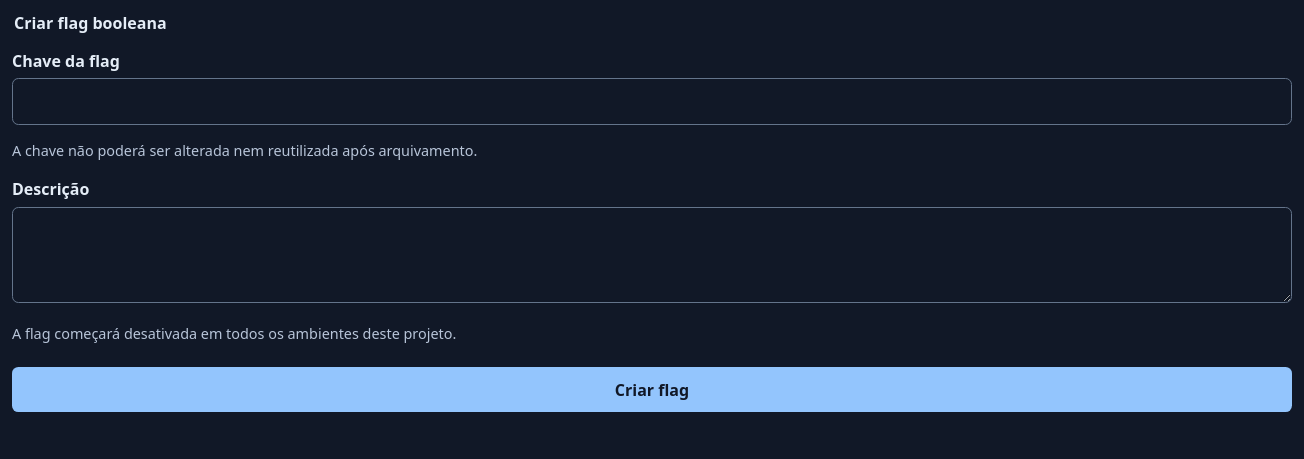
Test: valida chave antes de criar e informa o estado inicial desativado
Later steps or results of the test are not shown.
Type "Invalid Key" into the field labelled "Chave da flag" at (652, 102), box top-left (12, 78), bottom-right (1292, 125)
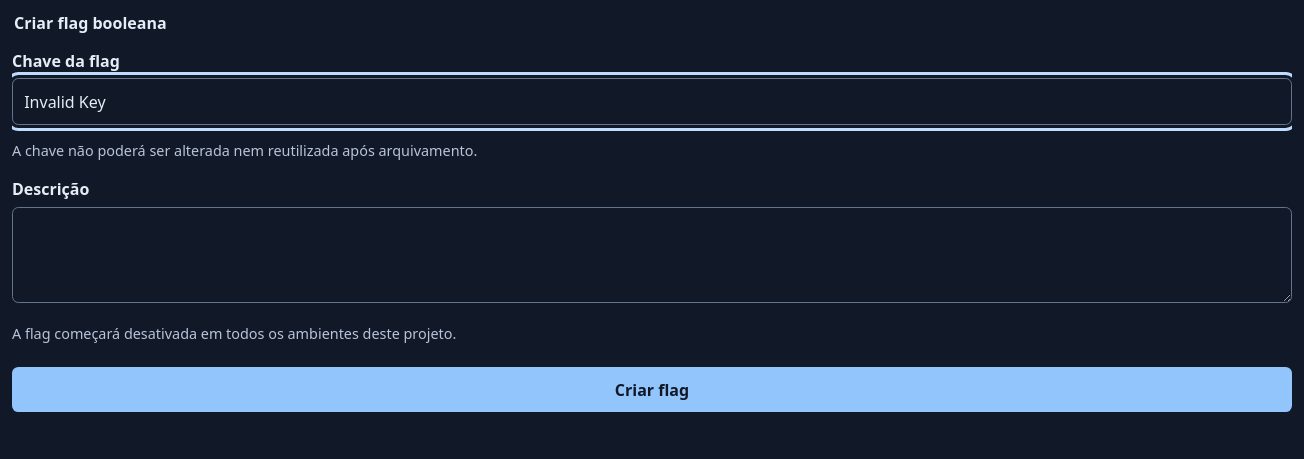
Click the button "Criar flag" at (652, 390), box top-left (12, 367), bottom-right (1292, 412)
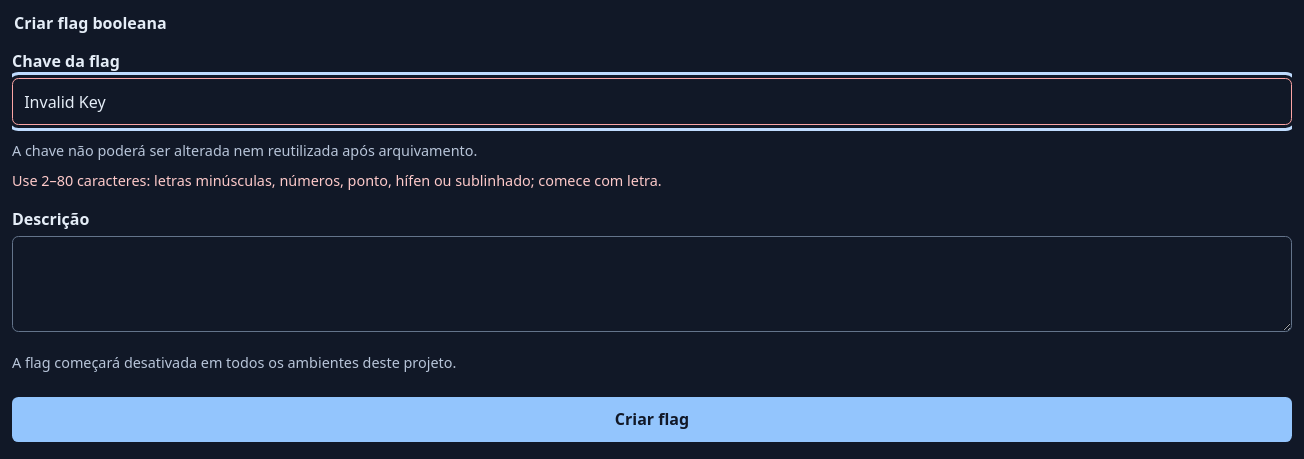
Expected: the text "Use 2–80 caracteres" is shown, top-left (12, 171), bottom-right (662, 190)
